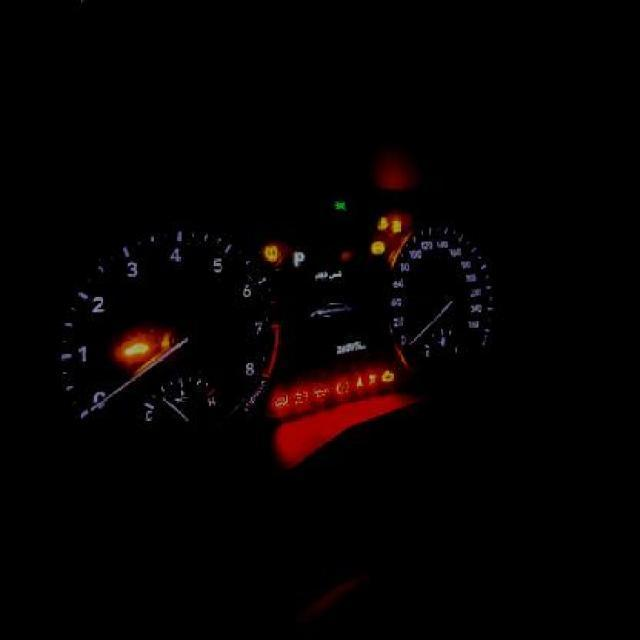Seat Belt: (360, 380, 371, 394)
